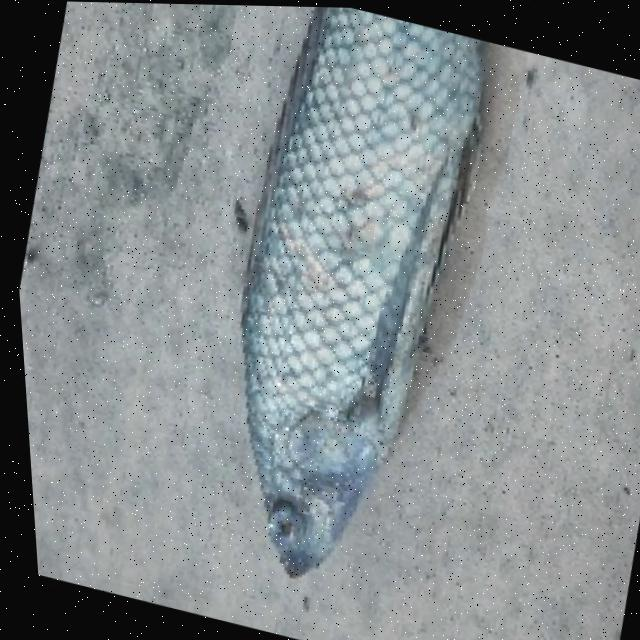Non-Fresh: (142, 2, 527, 614)
